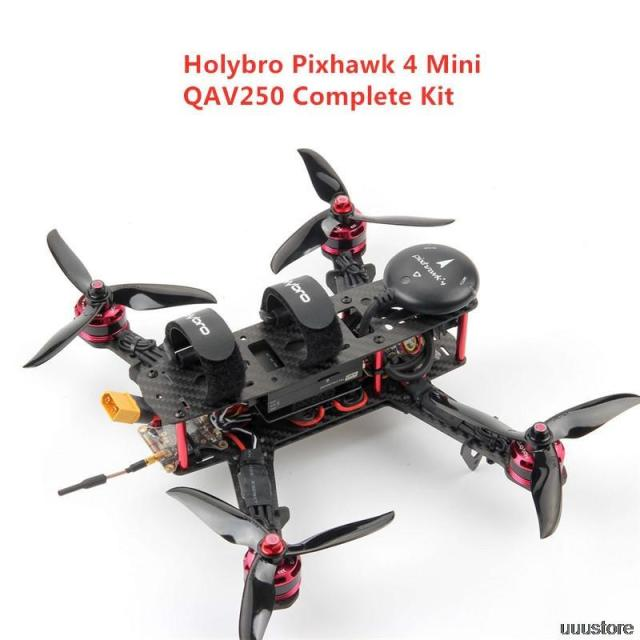drone: (0, 174, 640, 602)
